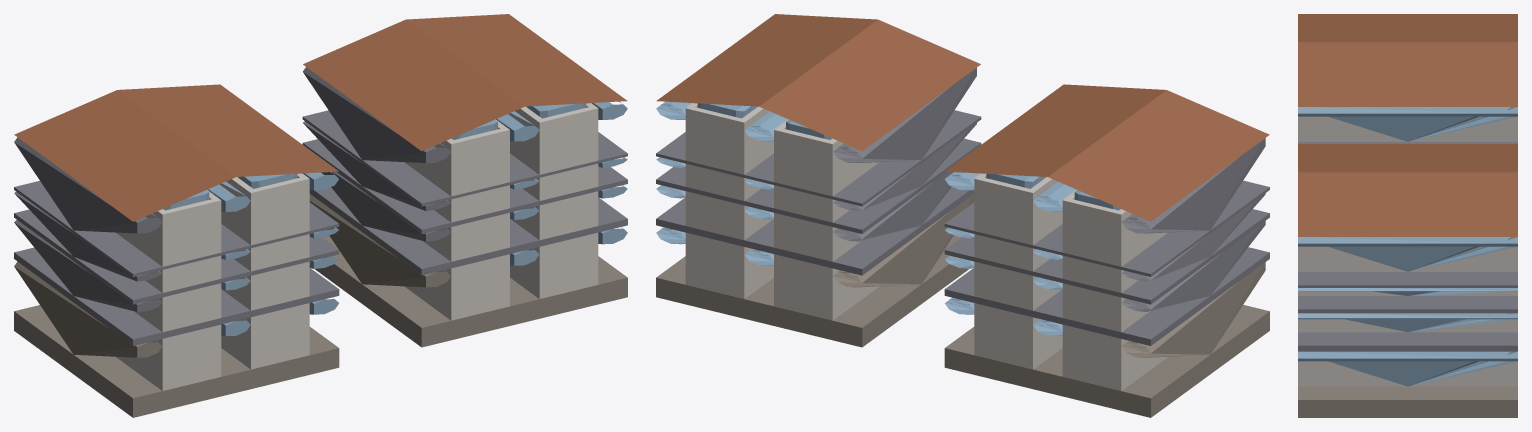
The model's file is gin_demo_colored.glb.
3 views of the same model, side by side, from view 1: azimuth 30°, elevation 25°; view 2: azimuth 150°, elevation 25°; view 3: azimuth 270°, elevation 25° (orthographic). The views are drawn at different scales.
Parts seen in each view (by area): view 1: world; view 2: world; view 3: world.
Part boxes in pixels (x1=…): world: x1=14, y1=14, x2=627, y2=417; world: x1=656, y1=14, x2=1269, y2=417; world: x1=1298, y1=14, x2=1517, y2=417.
Bounding box in the file's own units: 24 × 10 × 10.
